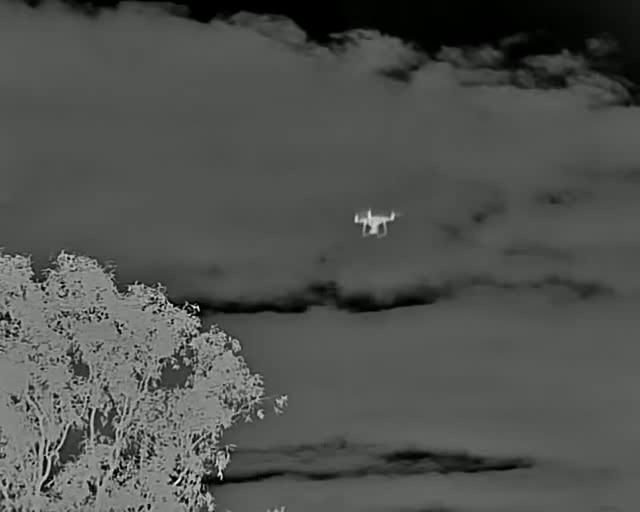DJI-Phantom: (354, 205, 403, 242)
